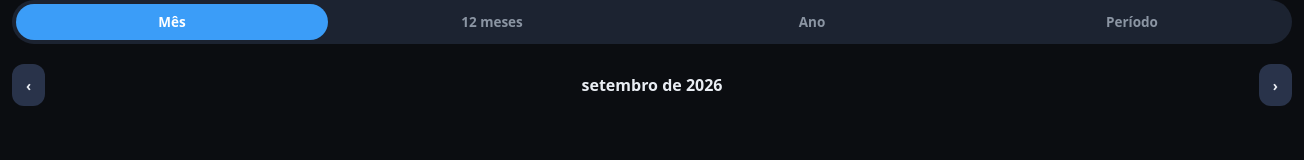
Test: SeletorPeriodo › modo 12 meses: janela até o mês de hoje, deslizando de mês em mês
Click the radio button labelled "12 meses": click(492, 22) [336,4,648,40]
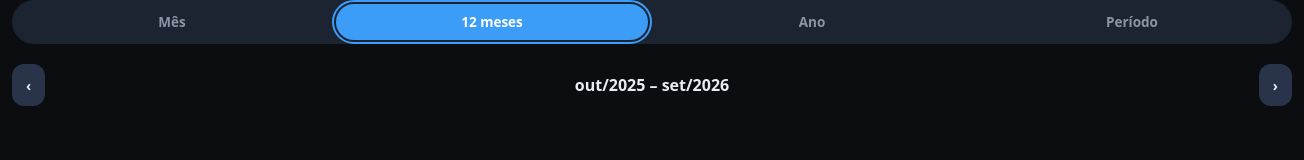
Expected: the text "out/2025 – set/2026" is shown, [575,74,729,96]
Click the button named "Período seguinte": click(1275, 85) [1259,64,1292,106]
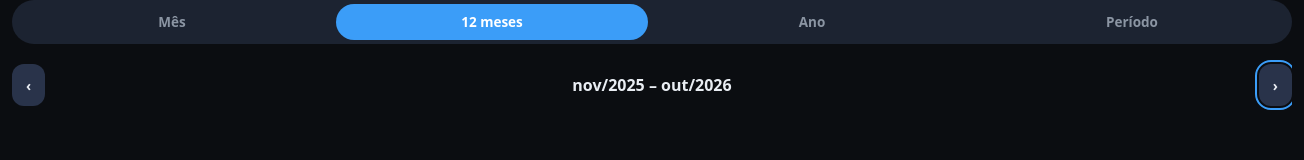
Expected: the text "nov/2025 – out/2026" is shown, [572,74,732,96]
